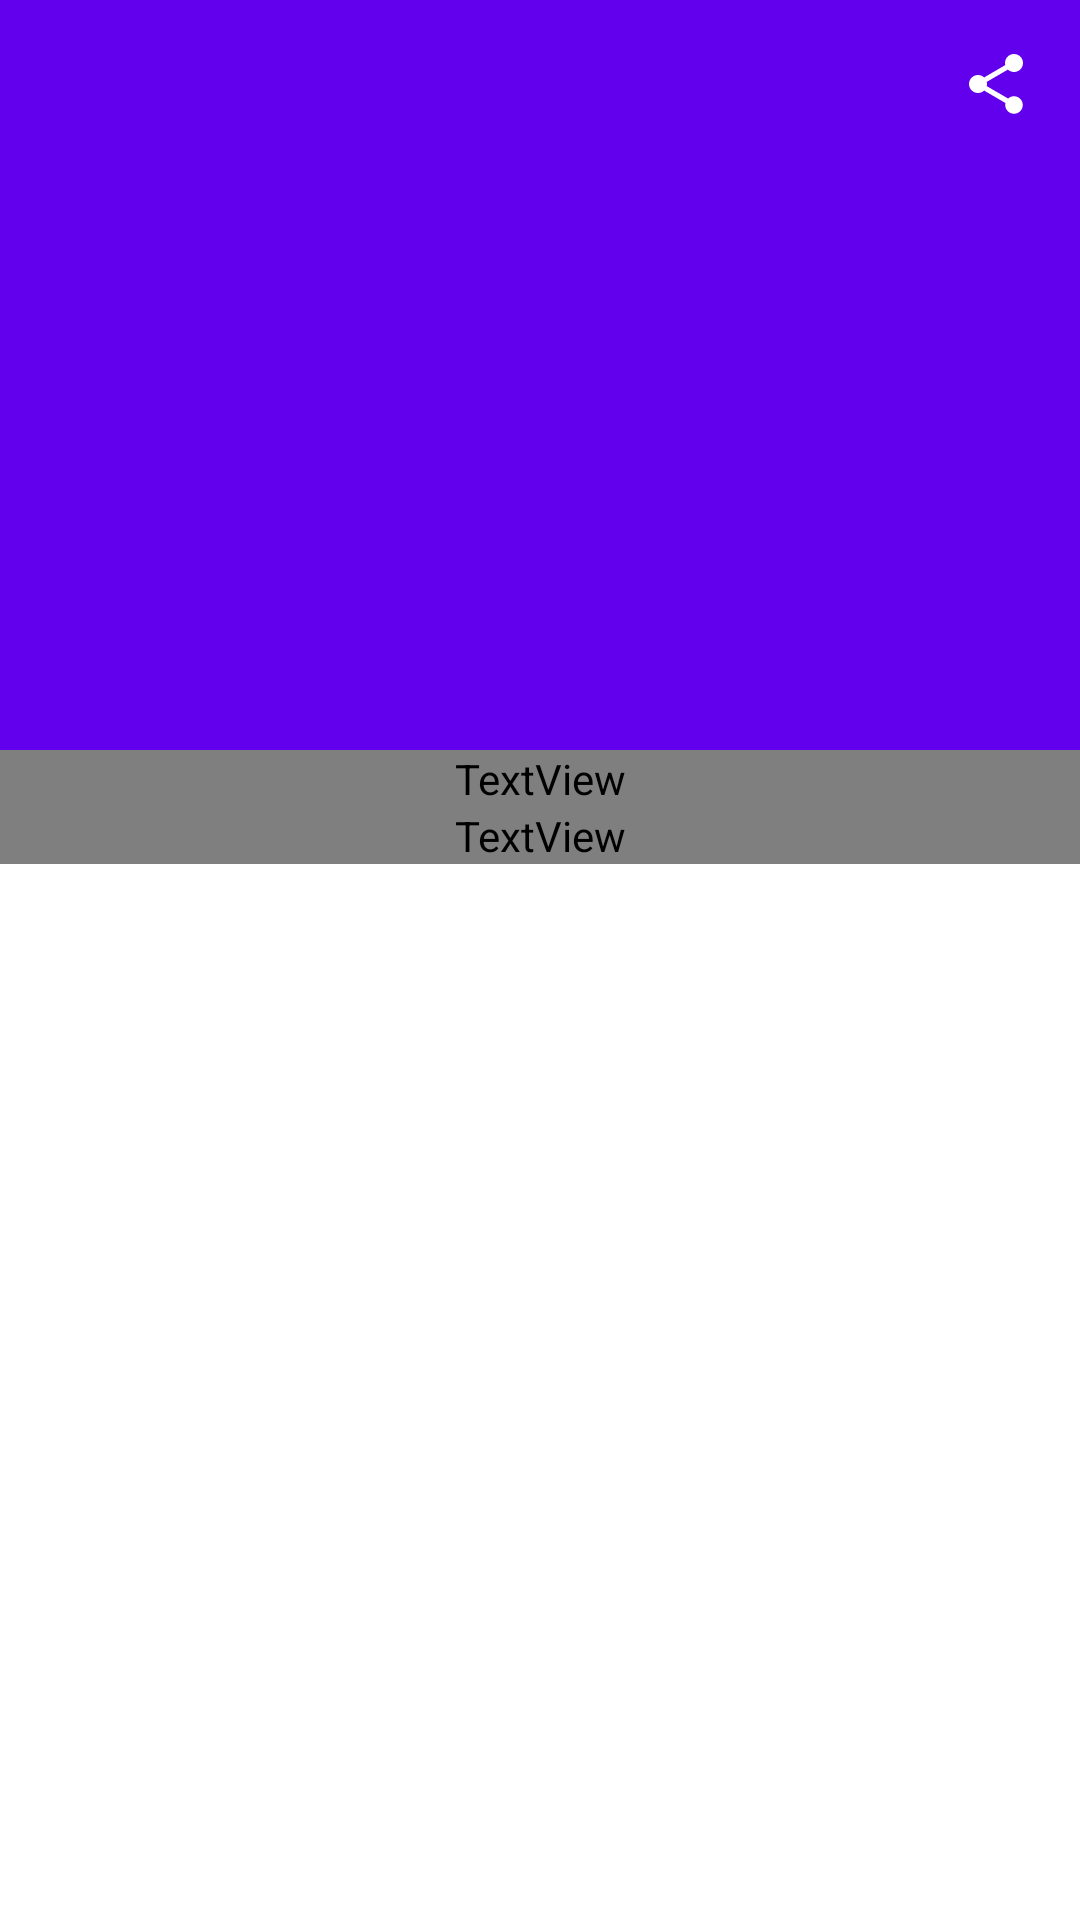

Icons on this 1080×1920 Android screen, each with the point to tap as (x=x, y=y):
share: (x=996, y=84)
